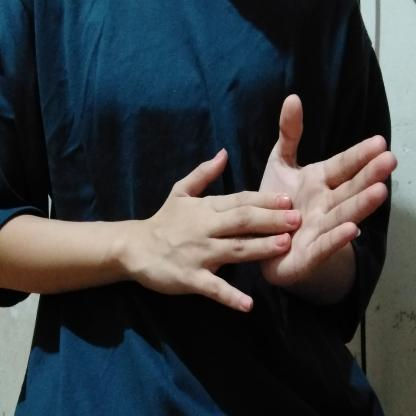mother: (122, 87, 404, 321)
